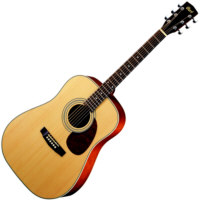guitar: (1, 2, 199, 200)
